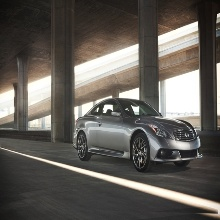no damage: (72, 98, 204, 172)
